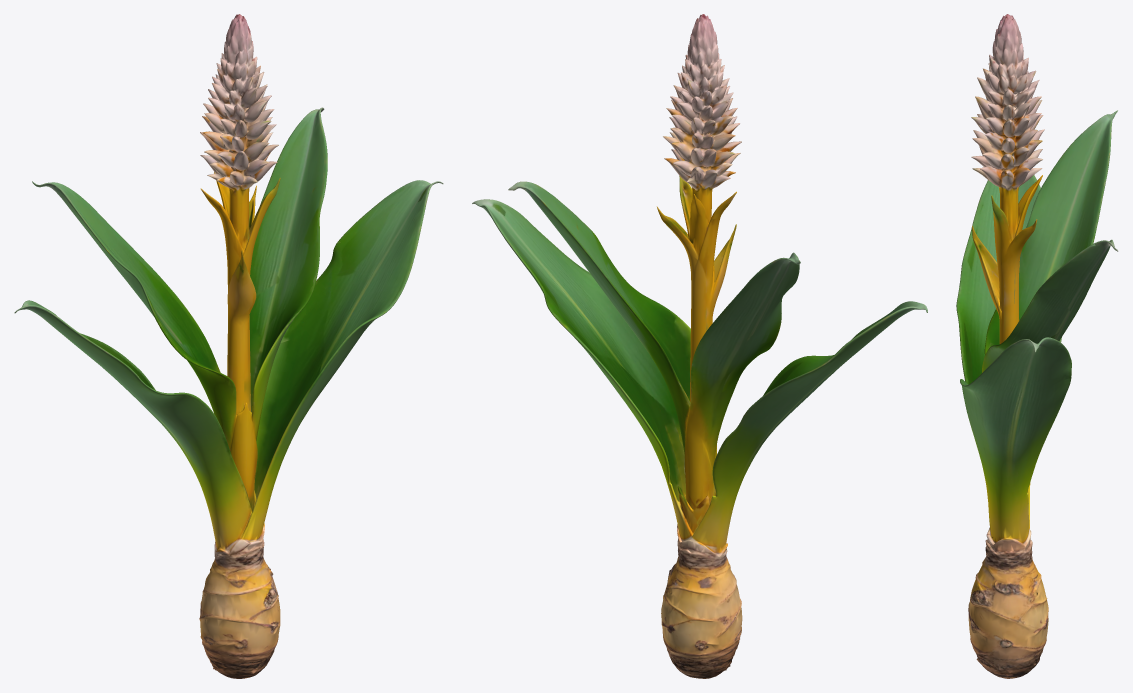
3 views of the same model, side by side, from view 1: azimuth 30°, elevation 25°; view 2: azimuth 150°, elevation 25°; view 3: azimuth 270°, elevation 25° (orthographic).
Visible parts, largest first — view 1: node_0; view 2: node_0; view 3: node_0.
Boxes of the visible parts, x1,y1,x2,y2 form: node_0: [14, 14, 443, 678]; node_0: [472, 14, 927, 678]; node_0: [956, 14, 1118, 678].
Bounding box in the file's own units: 0.8362 × 1.19 × 0.2657.
1 material, 1 textured.
